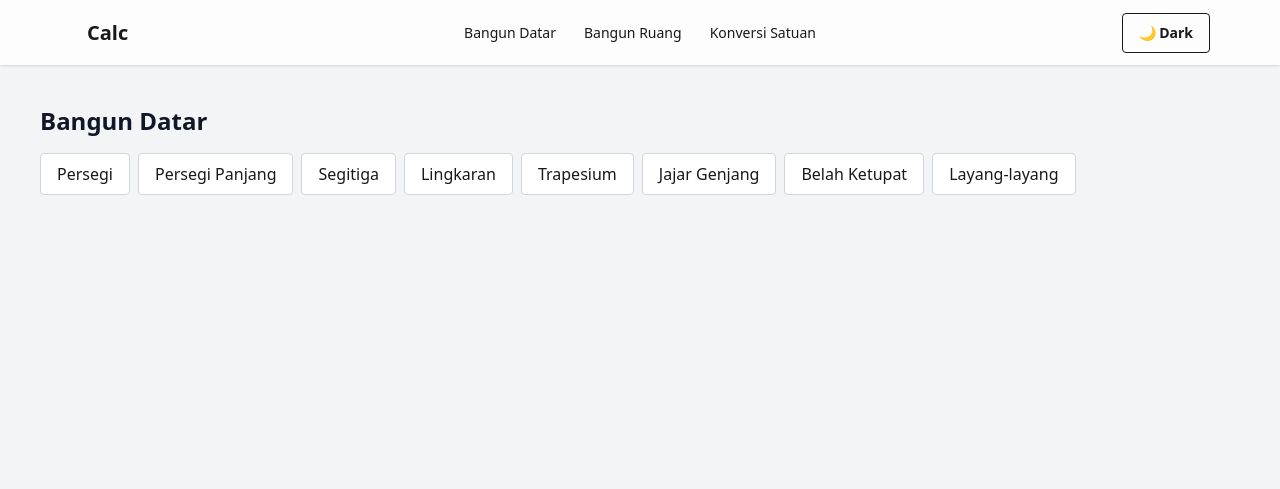
Test: App › hides calculators until shape is selected
The width and height of the screenshot is (1280, 489).
Expected: the text "Kalkulator" is not shown
Click the button "Persegi" at [85, 174], box [40, 153, 130, 195]
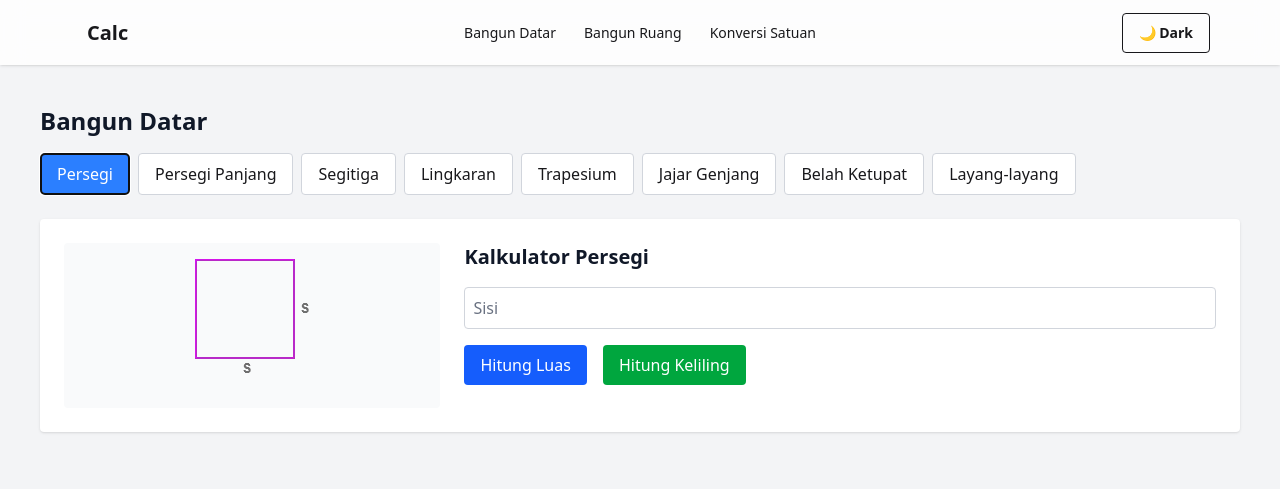
Expected: the heading "Kalkulator Persegi" is shown, [464, 243, 649, 270]
Click the button "Bangun Ruang" at [633, 32], box [572, 16, 694, 49]
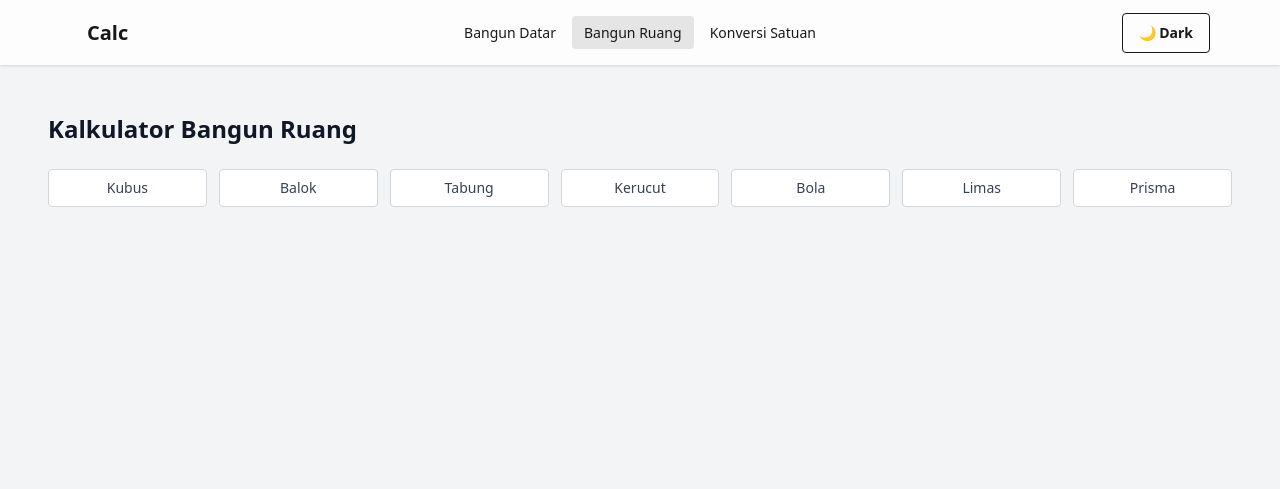
Expected: the heading "Hitung Volume" is not shown
Click the button "Kubus" at [127, 188], box [48, 169, 207, 207]
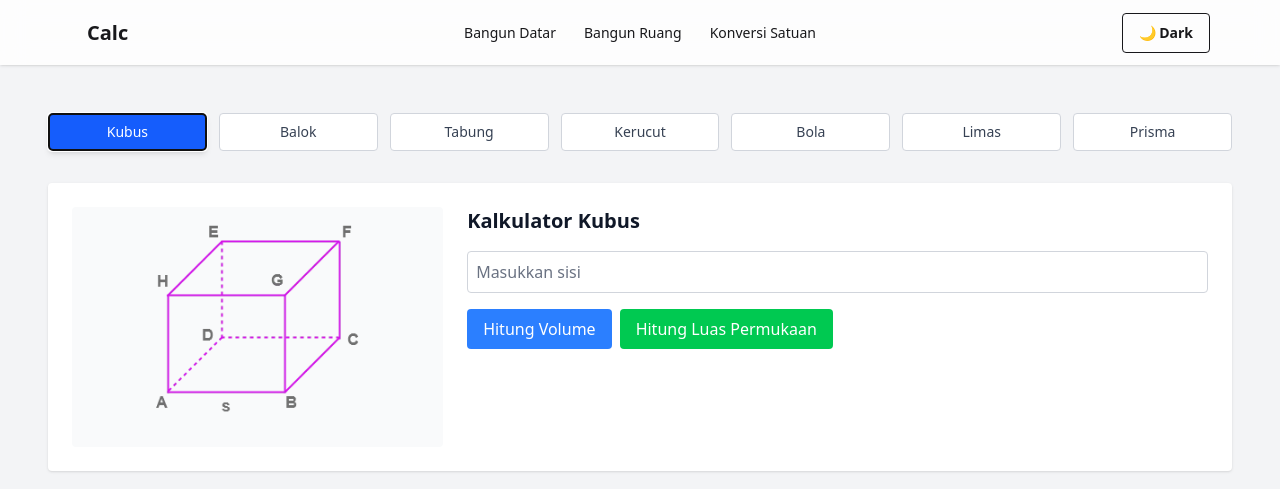
Expected: the heading "Kalkulator Kubus" is shown, [467, 207, 640, 234]
